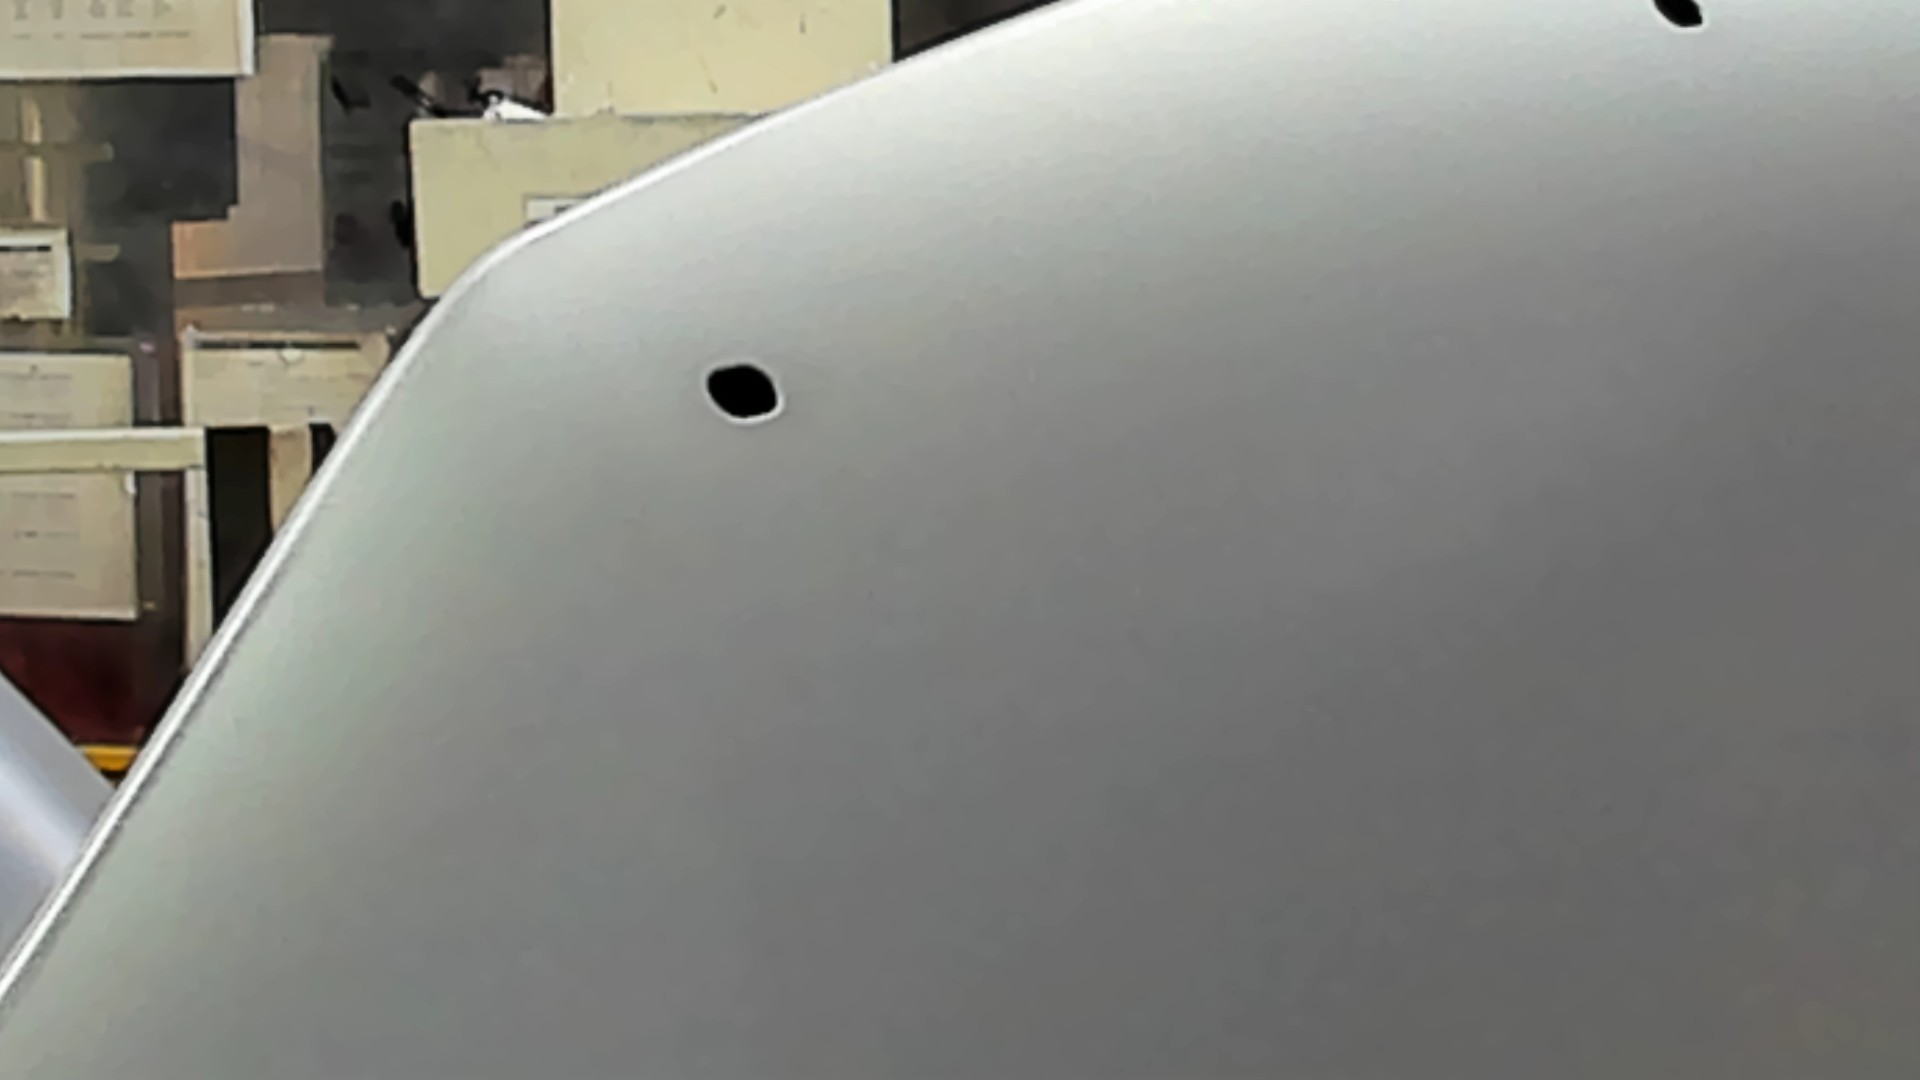amorfo: (698, 360, 795, 431), (1646, 1, 1709, 36)
